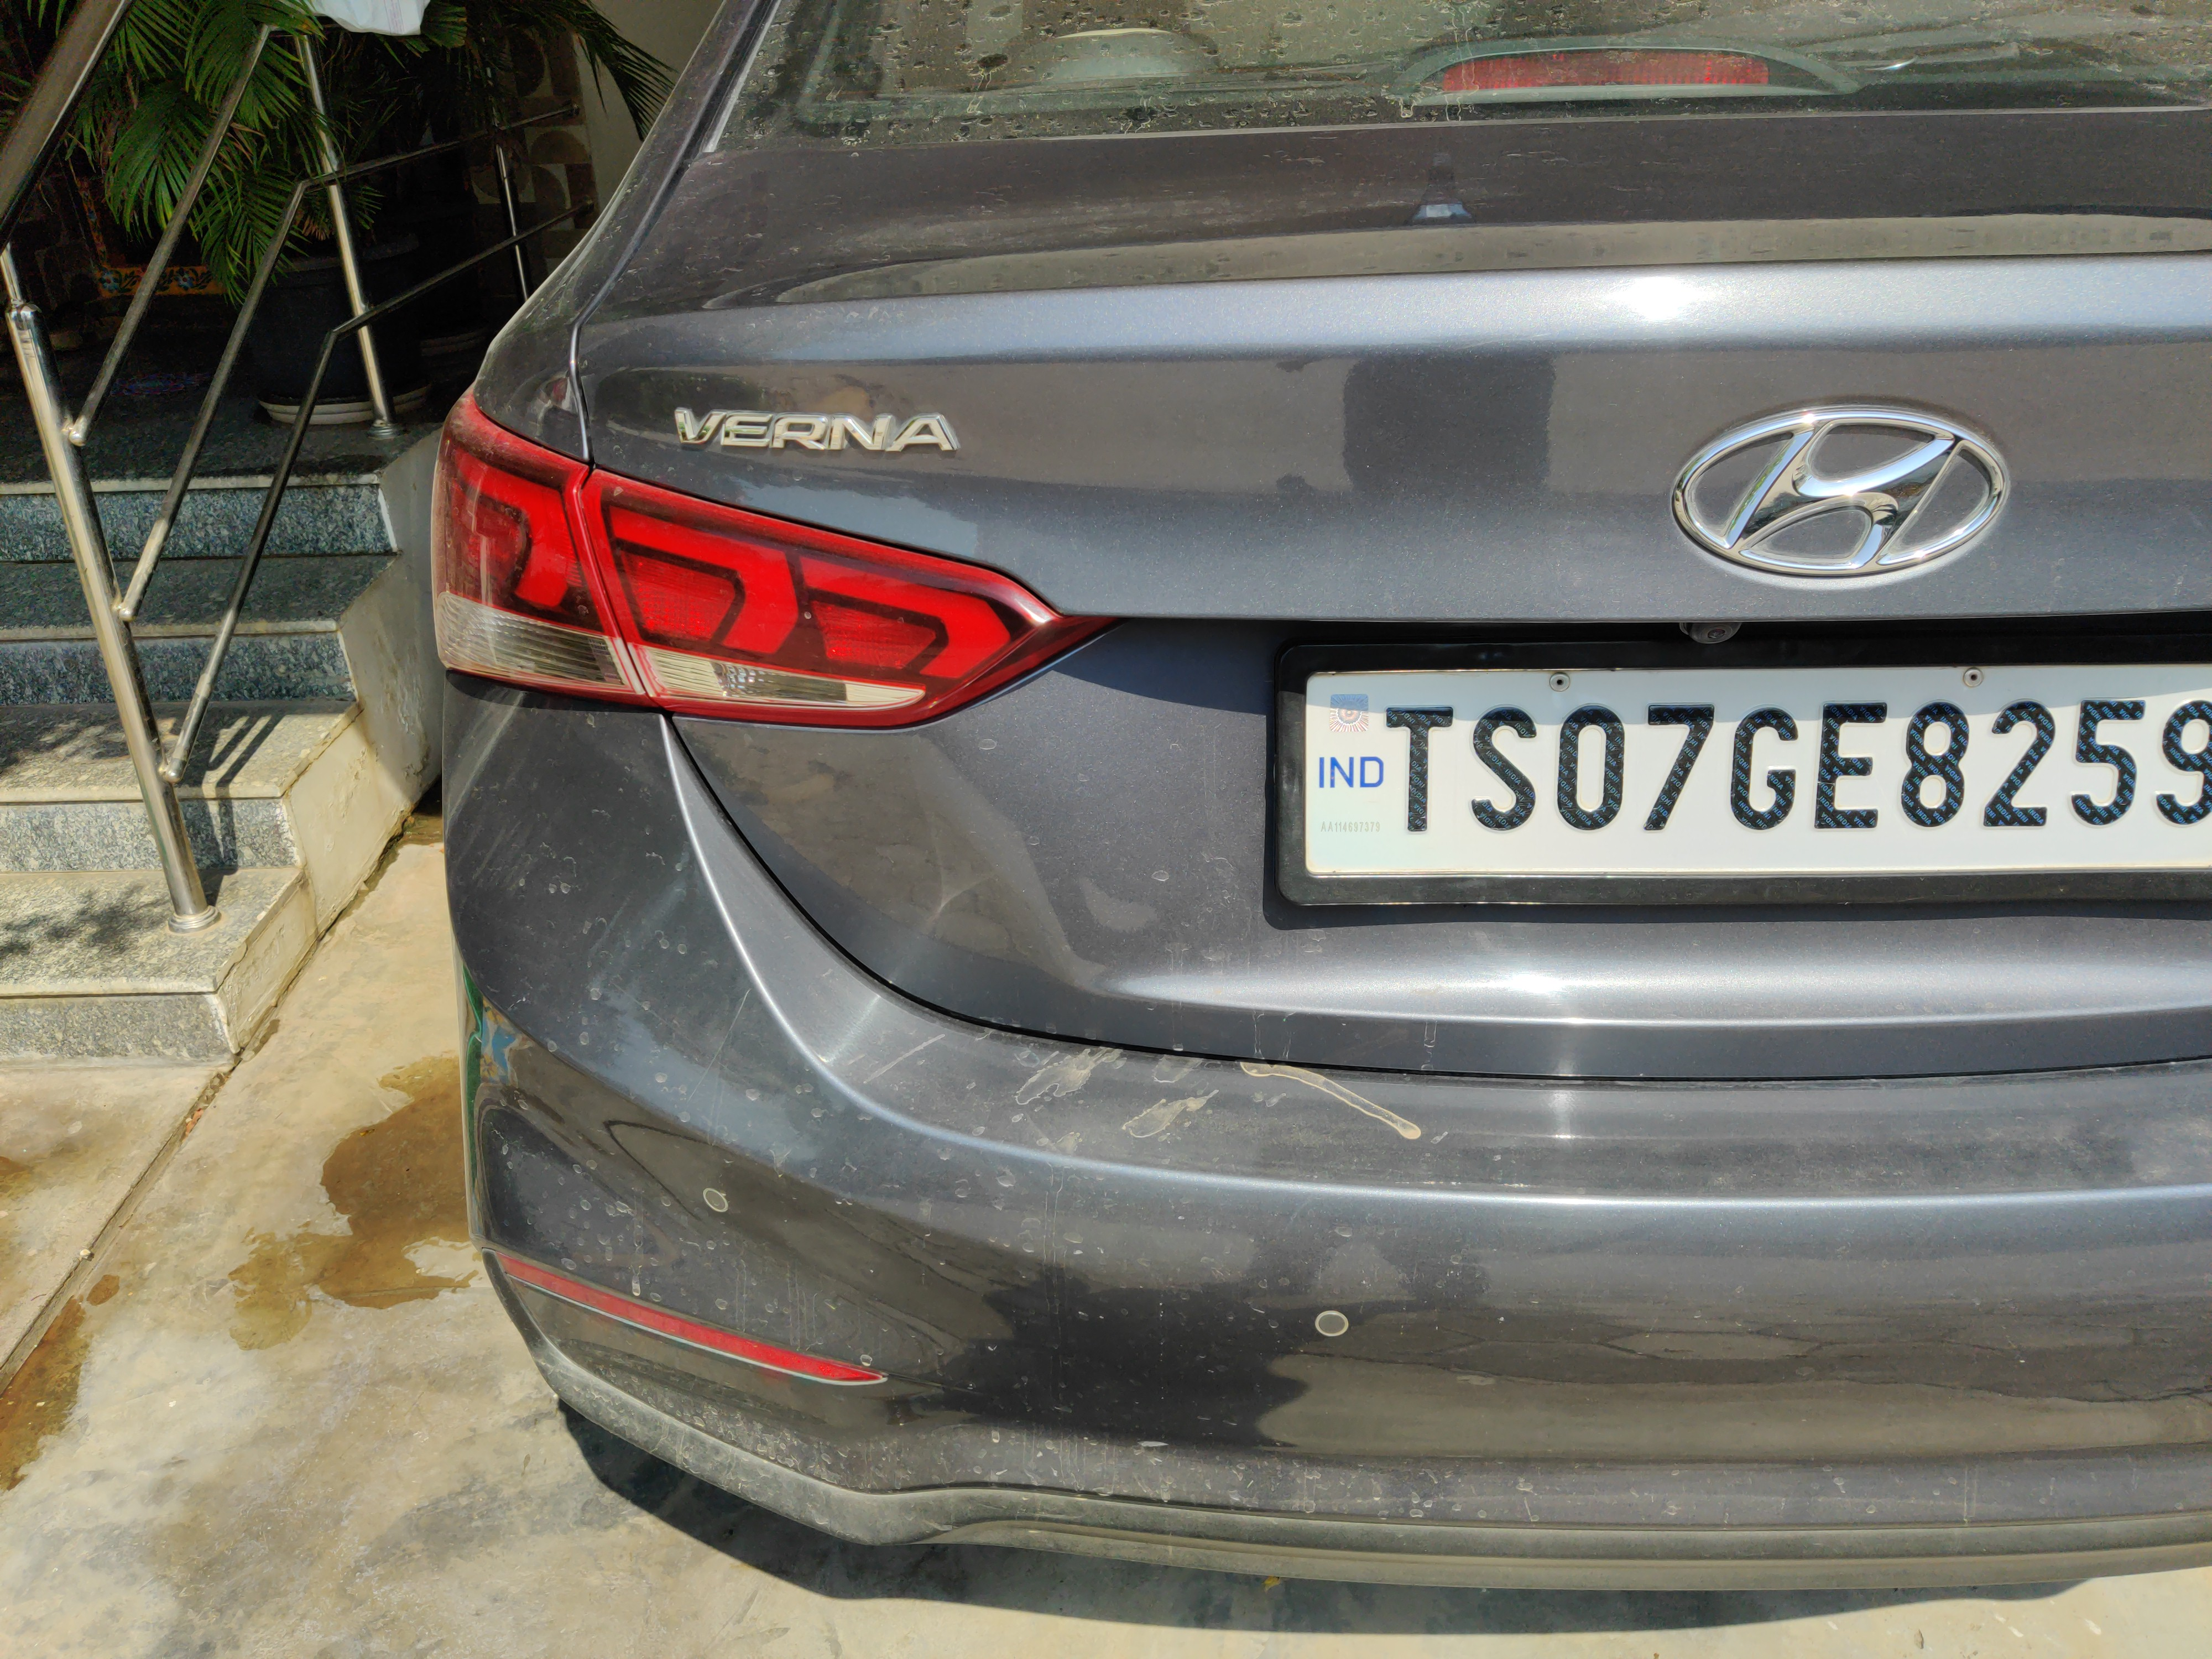plate: (1249, 624, 2212, 966)
